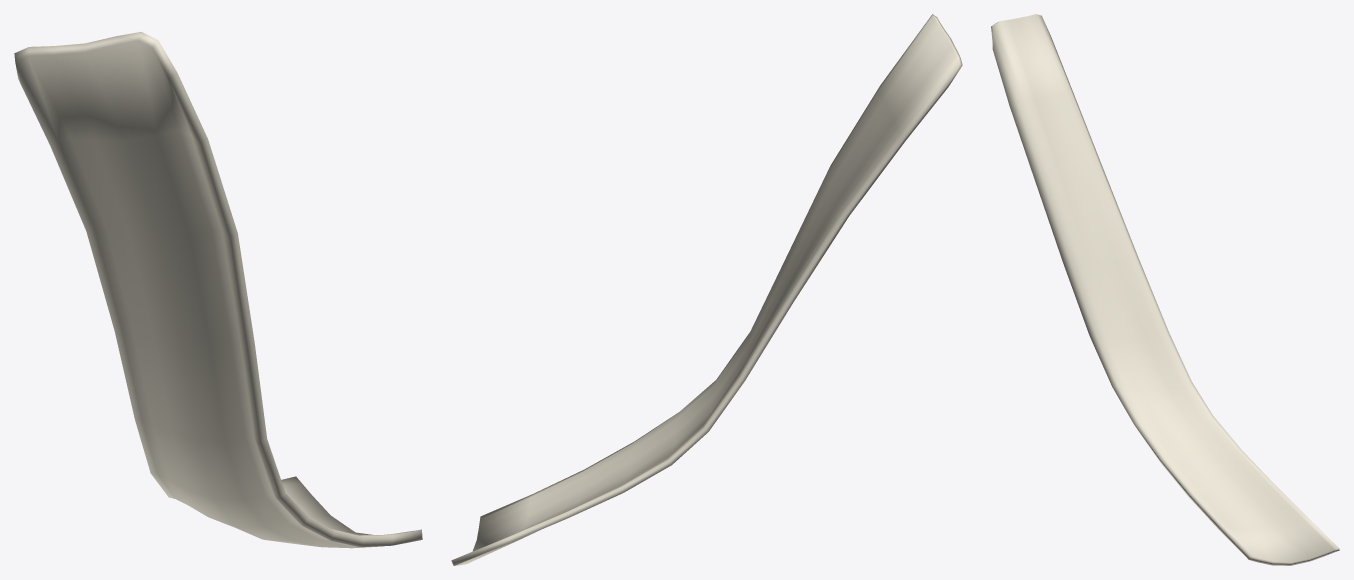
The picture shows the model from 3 angles, left to right: view 1: azimuth 30°, elevation 25°; view 2: azimuth 150°, elevation 25°; view 3: azimuth 270°, elevation 25°; orthographic projection. The views are drawn at different scales.
Parts seen in each view (by area): view 1: ZA_ec0411b05679735b; view 2: ZA_ec0411b05679735b; view 3: ZA_ec0411b05679735b.
Part boxes in pixels (bbox=[...]): ZA_ec0411b05679735b: bbox=[14, 31, 422, 548]; ZA_ec0411b05679735b: bbox=[451, 14, 962, 565]; ZA_ec0411b05679735b: bbox=[991, 14, 1339, 565].
Size of the model in its own units: 0.0343 by 0.0446 by 0.0334.
